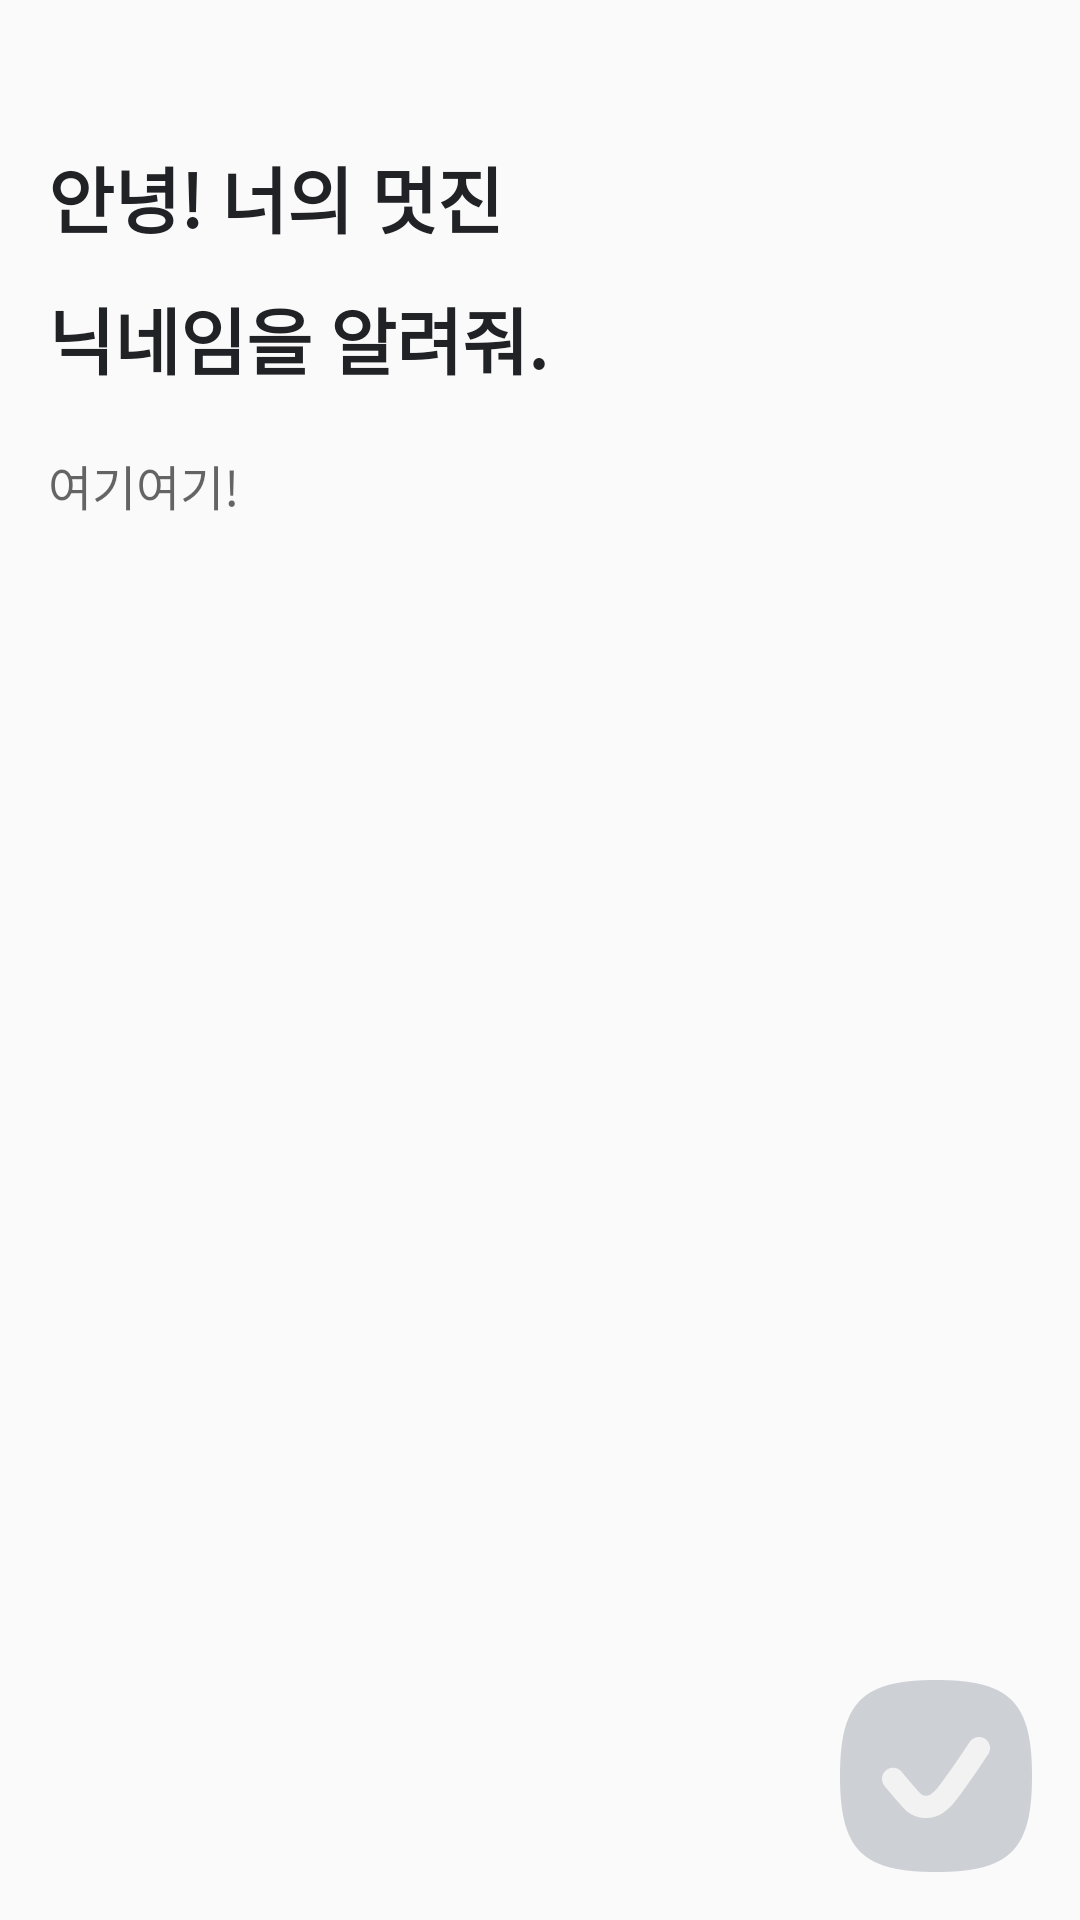

Icon click points for this 1080x1920 phone screenshot, format point (x, y):
nickname ok: point (936, 1776)
